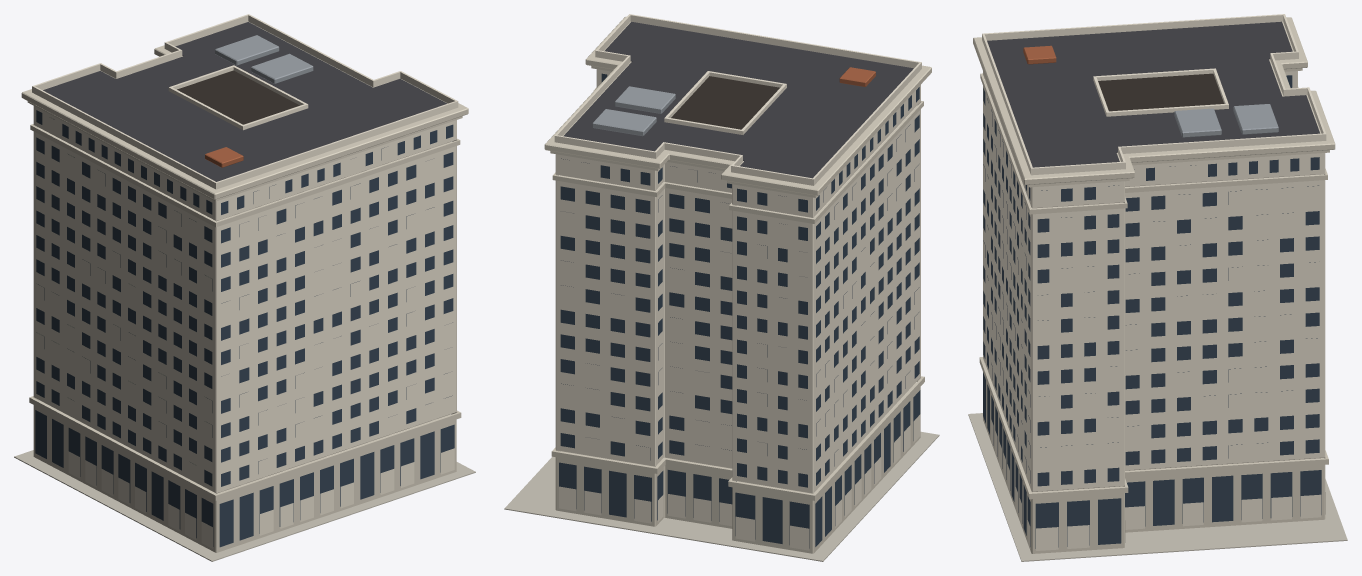
File: 100-sansome-street.glb
The picture shows the model from 3 angles, left to right: view 1: azimuth 30°, elevation 25°; view 2: azimuth 150°, elevation 25°; view 3: azimuth 270°, elevation 25°; orthographic projection. The views are drawn at different scales.
Visible parts, largest first — view 1: 100-sansome-street_body, 100-sansome-street_night_glow; view 2: 100-sansome-street_body, 100-sansome-street_night_glow; view 3: 100-sansome-street_body, 100-sansome-street_night_glow.
Part boxes in pixels (x1=…): 100-sansome-street_body: x1=14, y1=14, x2=475, y2=561; 100-sansome-street_night_glow: x1=36, y1=70, x2=454, y2=548; 100-sansome-street_body: x1=504, y1=14, x2=939, y2=561; 100-sansome-street_night_glow: x1=559, y1=76, x2=920, y2=550; 100-sansome-street_body: x1=968, y1=14, x2=1347, y2=561; 100-sansome-street_night_glow: x1=983, y1=73, x2=1325, y2=550.
Bounding box in the file's own units: 54.25 × 58.2 × 51.74.
